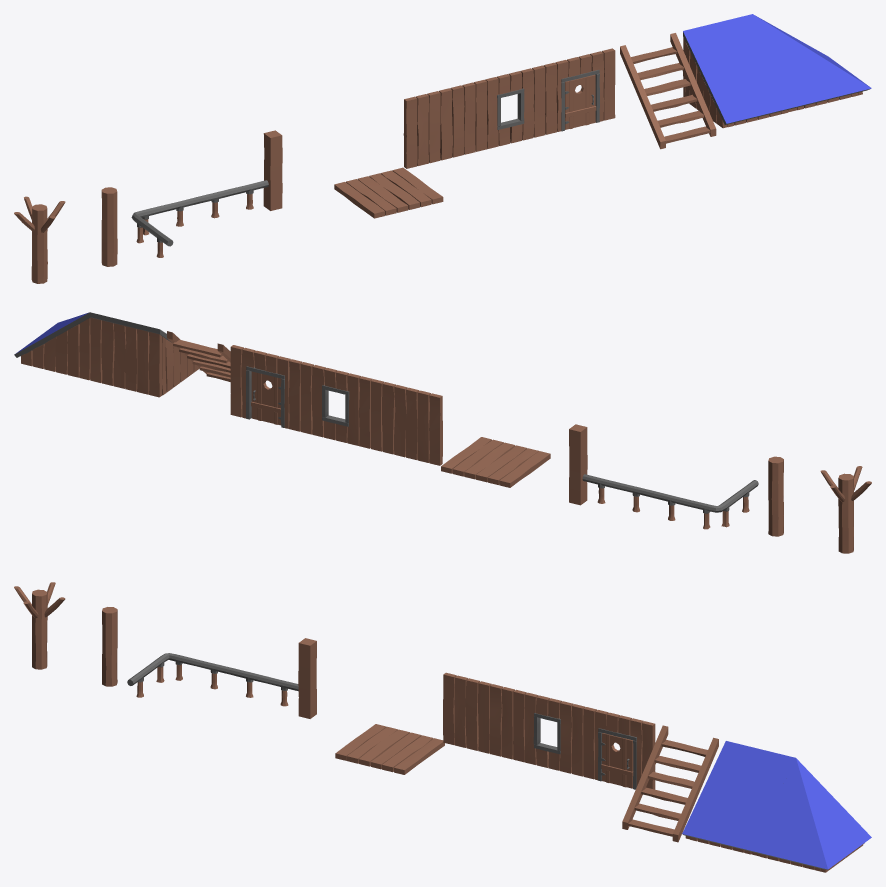
Rendered from Woods.fbx.
3 renders of one model, top to bottom at view 1: azimuth 30°, elevation 25°; view 2: azimuth 150°, elevation 25°; view 3: azimuth 330°, elevation 25°, orthographic.
Parts seen in each view (by area): view 1: WoodRoof, WoodWall, WoodWindow, WoodRoofTurn, WoodPlane.001, WoodDoor, WoodPlane, WoodHolder1, Cube.005, WoodColumn, WoodHolder2, WoodFenceTurn (+1 smaller); view 2: WoodRoof, WoodWall, WoodWindow, WoodDoor, WoodPlane, WoodRoofTurn, WoodHolder1, WoodPlane.001, WoodColumn, Cube.005, WoodFenceTurn, WoodHolder2 (+1 smaller); view 3: WoodRoof, WoodRoofTurn, WoodWall, WoodWindow, WoodPlane.001, WoodPlane, WoodDoor, WoodHolder1, Cube.005, WoodColumn, WoodFenceTurn, WoodHolder2 (+1 smaller).
Boxes of the visible parts, x1,y1,x2,y2 form: WoodRoof: (683, 14, 796, 128); WoodWall: (403, 82, 475, 168); WoodWindow: (473, 65, 545, 151); WoodRoofTurn: (753, 14, 871, 110); WoodPlane.001: (620, 33, 716, 149); WoodDoor: (543, 48, 615, 134); WoodPlane: (334, 167, 443, 218); WoodHolder1: (14, 196, 65, 283); Cube.005: (565, 74, 596, 129); WoodColumn: (263, 130, 282, 210); WoodHolder2: (101, 187, 117, 266); WoodFenceTurn: (131, 197, 198, 257); WoodRoof: (90, 312, 199, 397); WoodWall: (371, 379, 442, 465); WoodWindow: (300, 362, 372, 448); WoodDoor: (230, 345, 302, 431); WoodPlane: (441, 437, 550, 487); WoodRoofTurn: (14, 312, 90, 380); WoodHolder1: (820, 466, 871, 553); WoodPlane.001: (167, 331, 230, 381); WoodColumn: (569, 424, 587, 505); Cube.005: (251, 371, 281, 425); WoodFenceTurn: (652, 480, 758, 529); WoodHolder2: (768, 456, 783, 536); WoodRoof: (682, 741, 795, 855); WoodRoofTurn: (752, 758, 871, 872); WoodWall: (443, 672, 514, 759); WoodWindow: (513, 689, 585, 776); WoodPlane.001: (622, 725, 718, 842); WoodPlane: (335, 724, 444, 774); WoodDoor: (583, 707, 655, 789); WoodHolder1: (14, 582, 65, 669); Cube.005: (601, 733, 633, 788); WoodColumn: (298, 638, 316, 718); WoodFenceTurn: (127, 653, 231, 697); WoodHolder2: (102, 607, 117, 686).
Size of the model in its own units: 2868 by 242 by 263.
